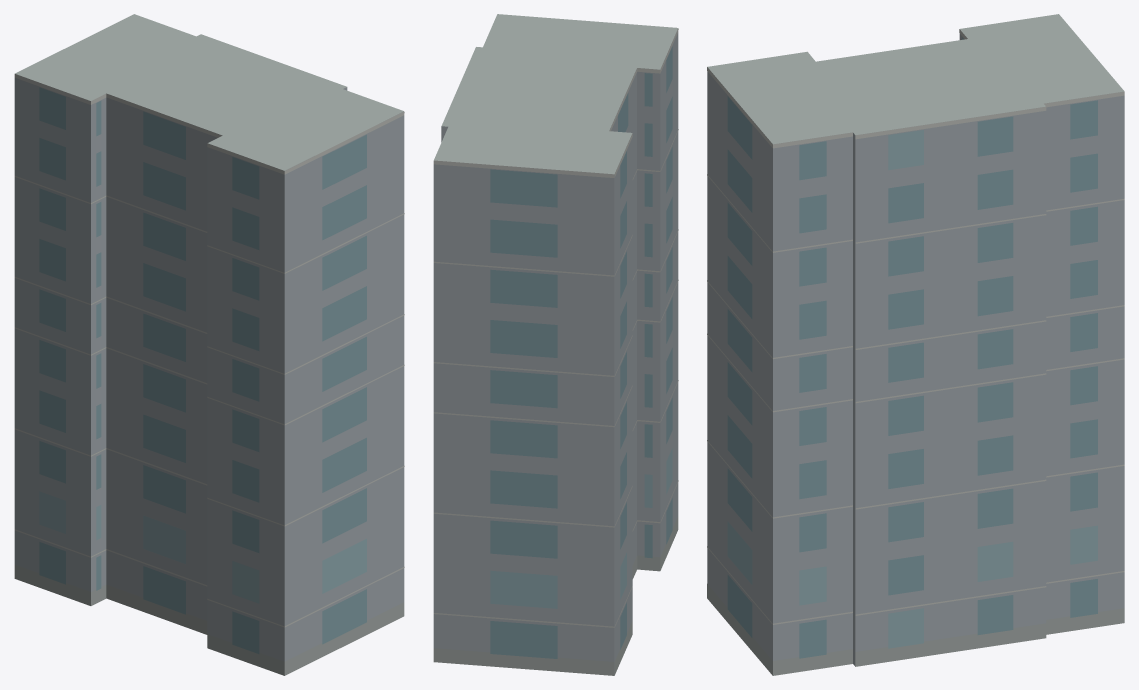
The model's file is survey-upis-32769922.glb.
3 renders of one model, left to right at view 1: azimuth 30°, elevation 25°; view 2: azimuth 150°, elevation 25°; view 3: azimuth 270°, elevation 25°, orthographic. The views are drawn at different scales.
Parts seen in each view (by area): view 1: survey-upis-32769922.tmp; view 2: survey-upis-32769922.tmp; view 3: survey-upis-32769922.tmp.
Part boxes in pixels (left/top/right/bottom): survey-upis-32769922.tmp: left=14, top=14, right=404, bottom=675; survey-upis-32769922.tmp: left=433, top=14, right=678, bottom=675; survey-upis-32769922.tmp: left=707, top=14, right=1124, bottom=675.
Bounding box in the file's own units: 16.59 × 31.5 × 22.45.
